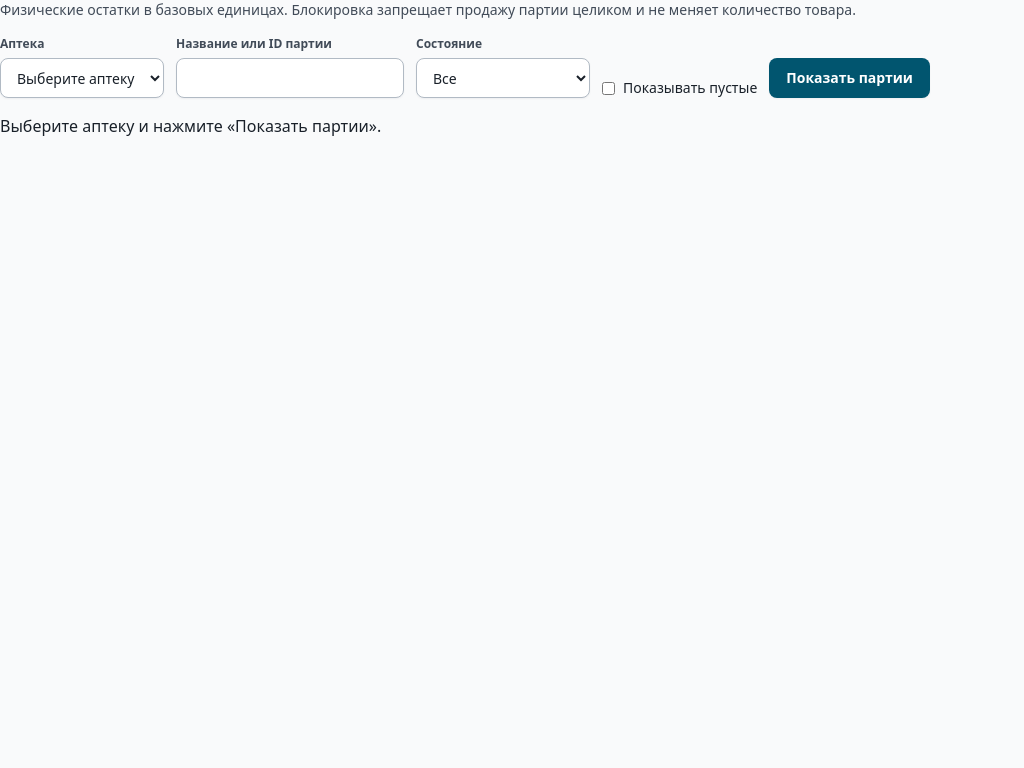
Test: physical lot workspace › confirms an explicit desired state with the reviewed revision
The image size is (1024, 768).
Select "Аптека 1" in the dropdown labelled "Аптека": (82, 78) [0,58,164,98]
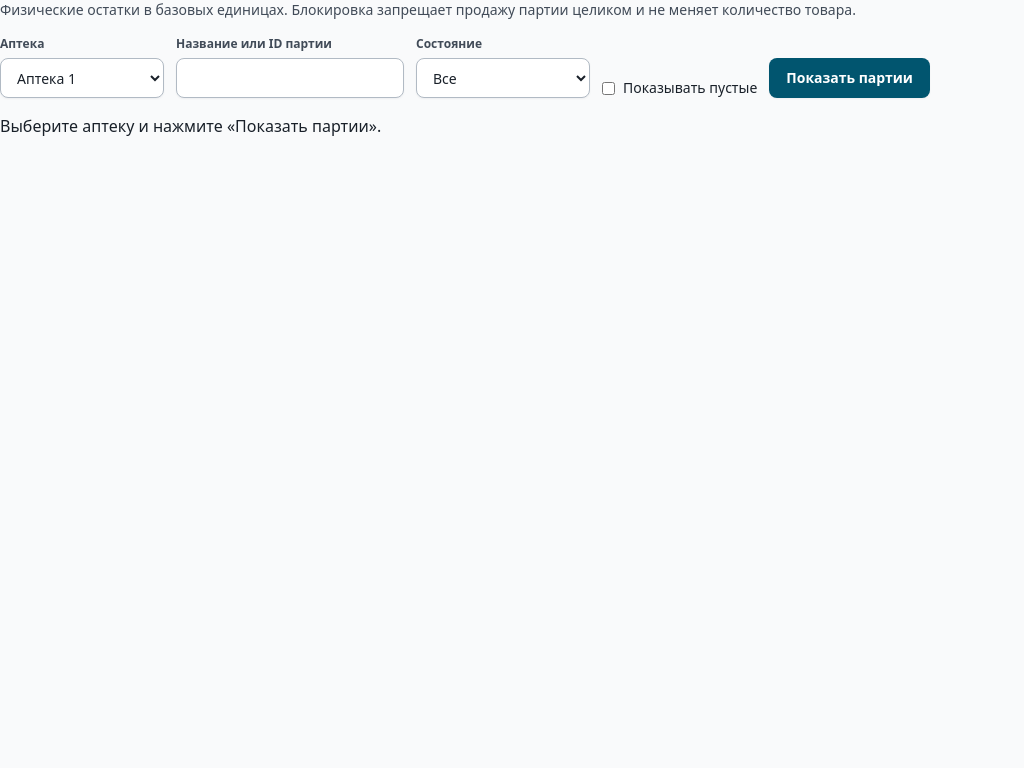
Click the button "Показать партии": click(850, 78) [769,58,930,98]
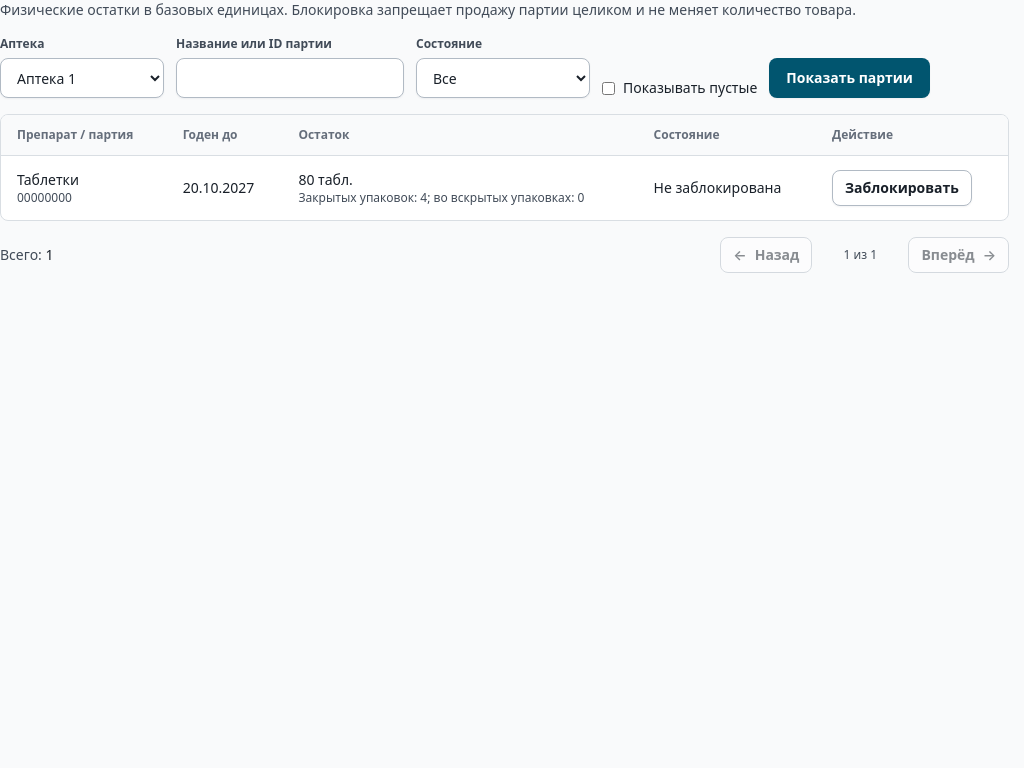
Now the text "Таблетки" is shown, box [17,170,79,189]
Click the button "Заблокировать": click(902, 188) [832,170,972,206]
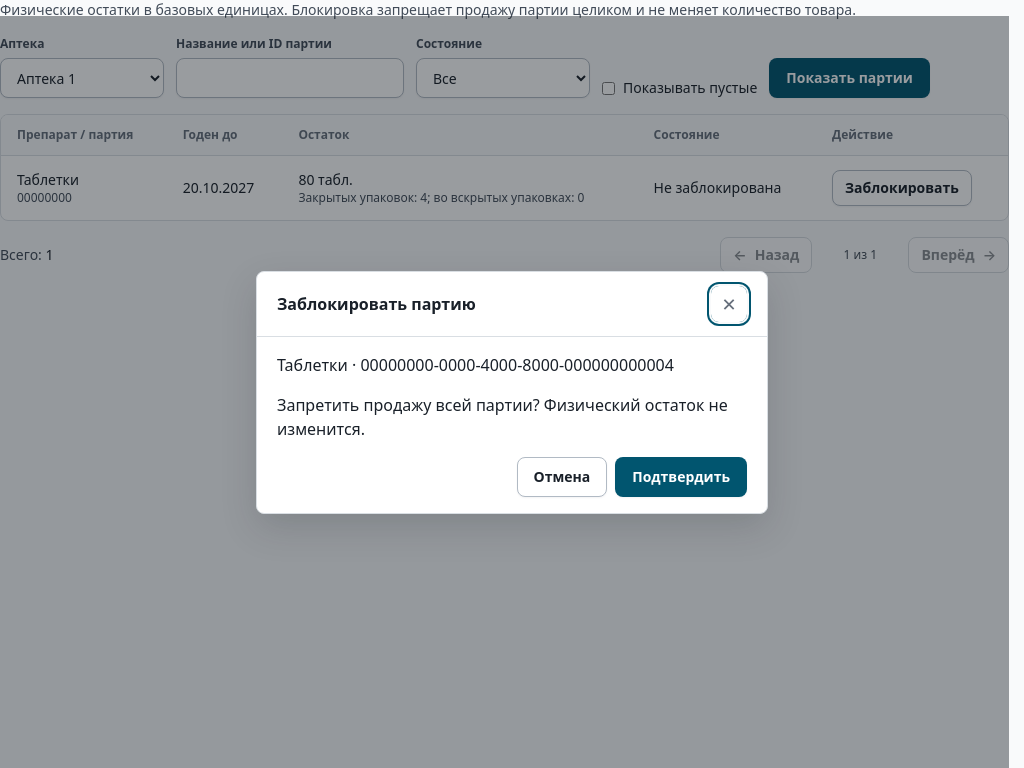
Click the button "Подтвердить": click(681, 476) [615,456,747,496]
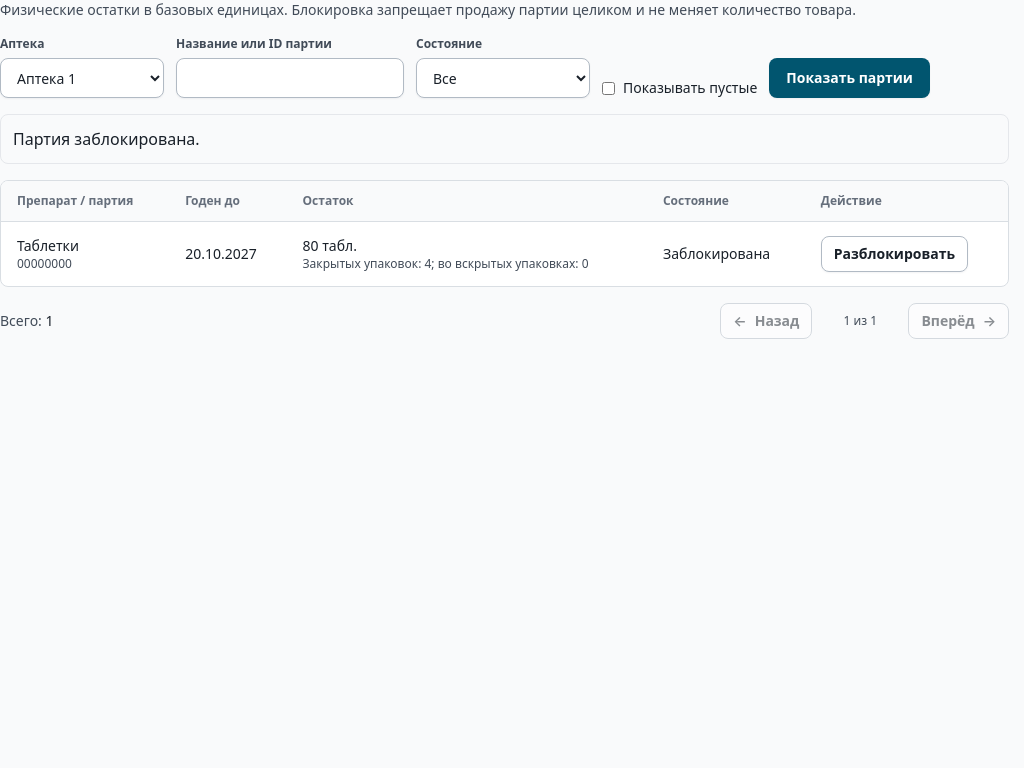
Now the text "Партия заблокирована." is shown, box [0,114,1009,164]
Now the button "Разблокировать" is shown, box [821,236,968,272]
